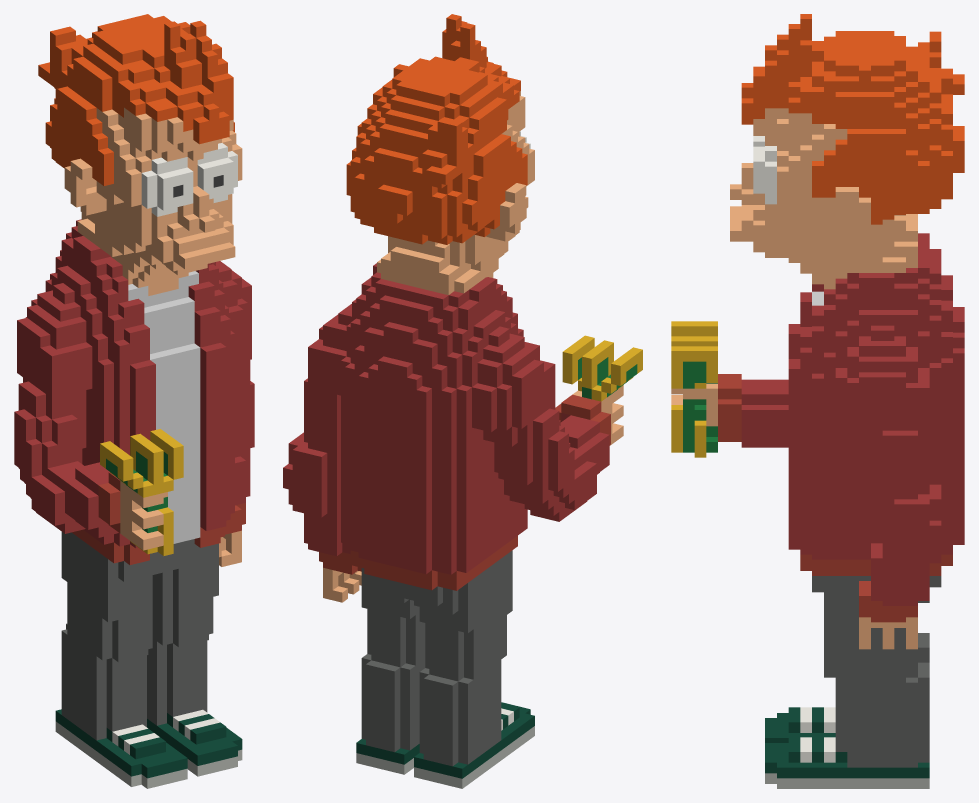
File: fry.glb
3 views of the same model, side by side, from view 1: azimuth 30°, elevation 25°; view 2: azimuth 150°, elevation 25°; view 3: azimuth 270°, elevation 25° (orthographic). The views are drawn at different scales.
Visible parts, largest first — view 1: Untitled; view 2: Untitled; view 3: Untitled.
Part boxes in pixels (x1,y1,x2,y2): Untitled: (14, 14, 254, 788); Untitled: (283, 14, 642, 788); Untitled: (671, 14, 964, 788).
Bounding box in the file's own units: 2.5 × 7 × 2.5.
1 material, 1 textured.
